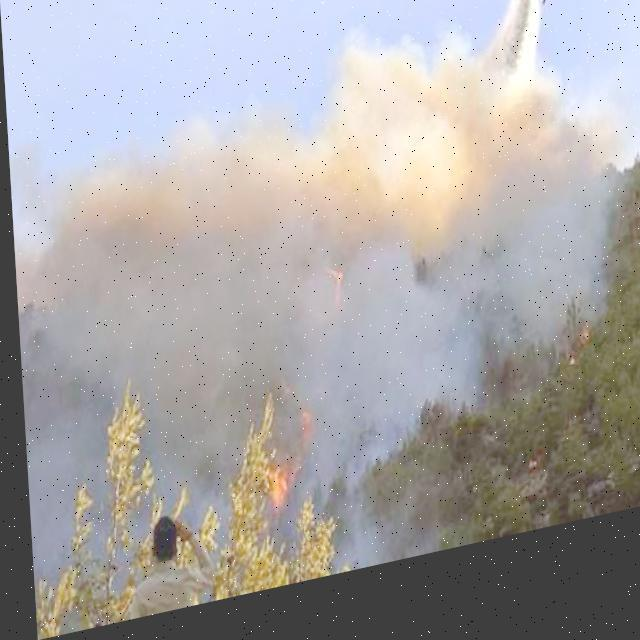Fire: (256, 457, 288, 529), (318, 272, 348, 328), (292, 414, 308, 458)
